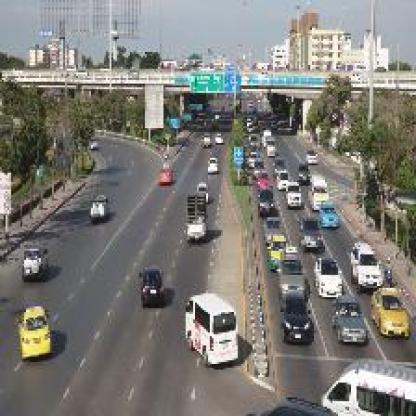other: (357, 282, 412, 346), (12, 298, 55, 358), (156, 159, 169, 188)
